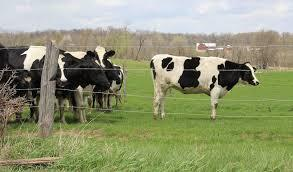cow: (6, 46, 108, 123), (150, 54, 260, 120), (89, 66, 126, 109), (82, 46, 119, 73)
